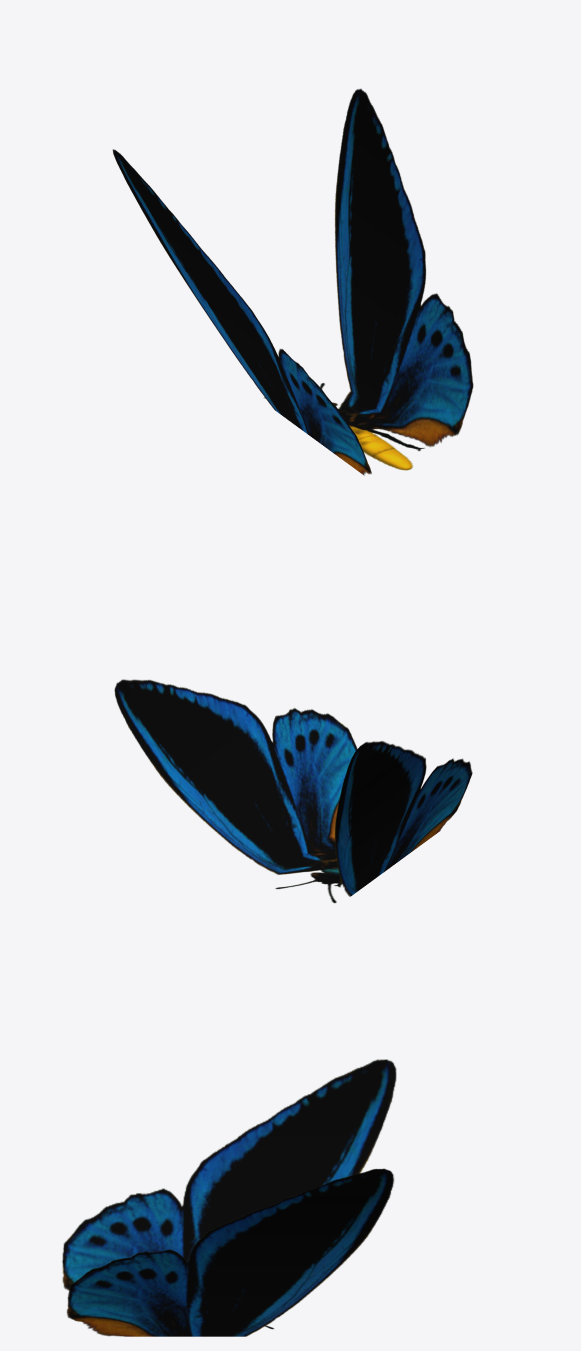
File: stklib_butterfly_a_main.glb
3 views of the same model, one above another, from view 1: azimuth 30°, elevation 25°; view 2: azimuth 150°, elevation 25°; view 3: azimuth 270°, elevation 25° (orthographic). The views are drawn at different scales.
Visible parts, largest first — view 1: butterfly.png__; view 2: butterfly.png__; view 3: butterfly.png__.
Part boxes in pixels (bbox=[...]): butterfly.png__: bbox=[112, 88, 473, 475]; butterfly.png__: bbox=[114, 679, 472, 903]; butterfly.png__: bbox=[62, 1059, 396, 1336].
Bounding box in the file's own units: 0.9533 × 0.8527 × 2.
1 material, 1 textured.
